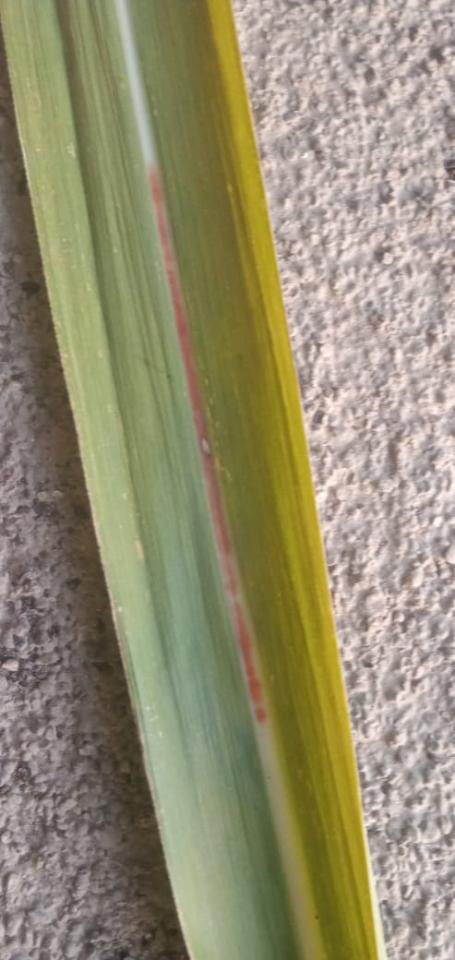RedRot: (145, 159, 269, 728)
